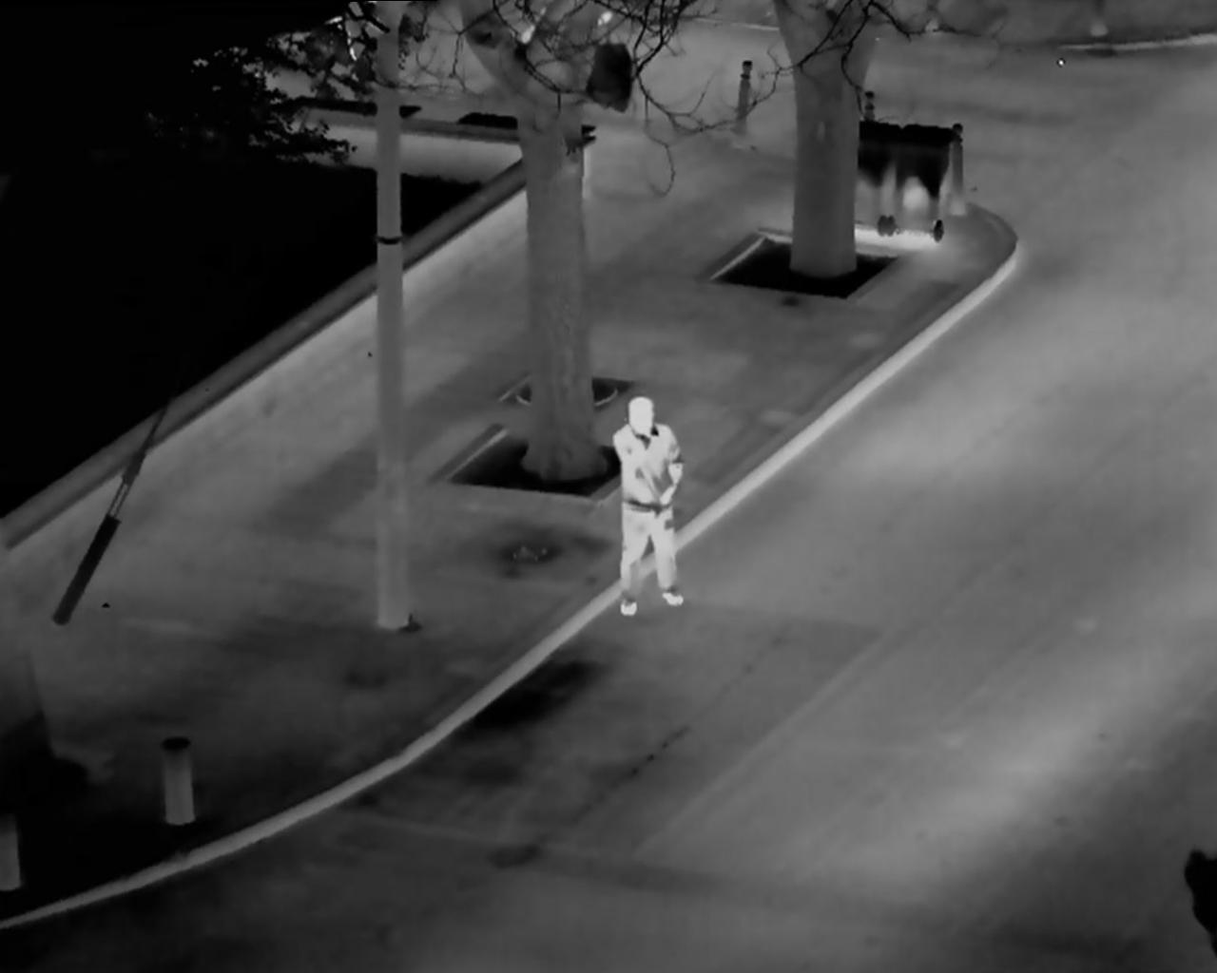person: (605, 384, 696, 623)
